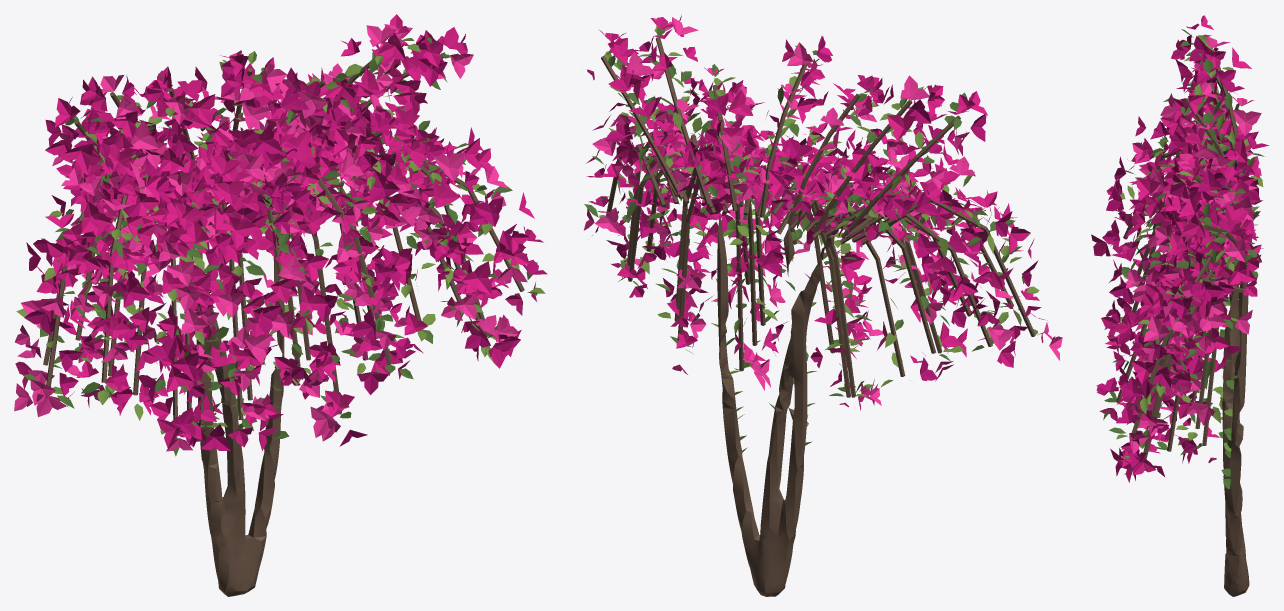
The model's file is bougainvillea.glb.
3 renders of one model, left to right at view 1: azimuth 30°, elevation 25°; view 2: azimuth 150°, elevation 25°; view 3: azimuth 270°, elevation 25°, orthographic. The views are drawn at different scales.
Visible parts, largest first — view 1: magenta95, pink94, rose96, bark0, leafdark98, leaf97; view 2: magenta95, rose96, pink94, bark0, leaf97, leafdark98, bark30, bark27; view 3: magenta95, rose96, pink94, bark0, leafdark98, leaf97, bark54, bark69, bark48, bark72, bark57.
Boxes of the visible parts, box(x1,y1,x2,y2) form: magenta95: box(15, 14, 534, 450); pink94: box(14, 24, 527, 451); rose96: box(24, 36, 547, 450); bark0: box(167, 221, 284, 596); leafdark98: box(23, 34, 537, 456); leaf97: box(16, 38, 545, 434); magenta95: box(586, 14, 1041, 410); rose96: box(586, 36, 1047, 405); pink94: box(583, 17, 1062, 405); bark0: box(717, 214, 834, 596); leaf97: box(594, 25, 1039, 426); leafdark98: box(584, 27, 1044, 452); bark30: box(833, 255, 855, 397); bark27: box(828, 258, 850, 397); magenta95: box(1091, 15, 1261, 482); rose96: box(1096, 34, 1269, 476); pink94: box(1107, 36, 1262, 462); bark0: box(1222, 282, 1249, 596); leafdark98: box(1103, 29, 1264, 488); leaf97: box(1111, 35, 1263, 474); bark54: box(1202, 327, 1218, 445); bark69: box(1143, 330, 1173, 458); bark48: box(1167, 298, 1193, 451); bark72: box(1131, 333, 1169, 433); bark57: box(1195, 302, 1214, 428).
Bounding box in the file's own units: 3.65 × 3.85 × 1.23.
